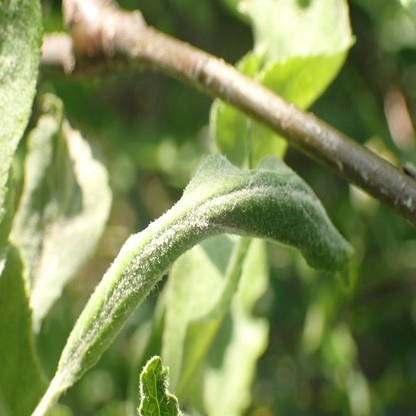powdery_mildew: (61, 153, 339, 374), (0, 19, 36, 213)
